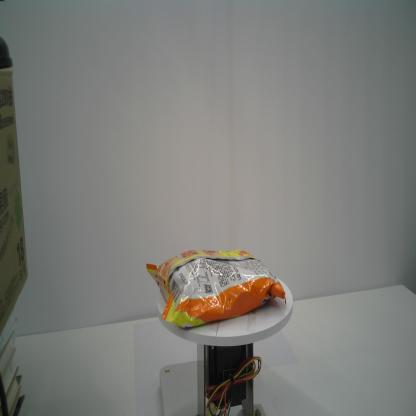Instant Noodles: (145, 246, 288, 329)
